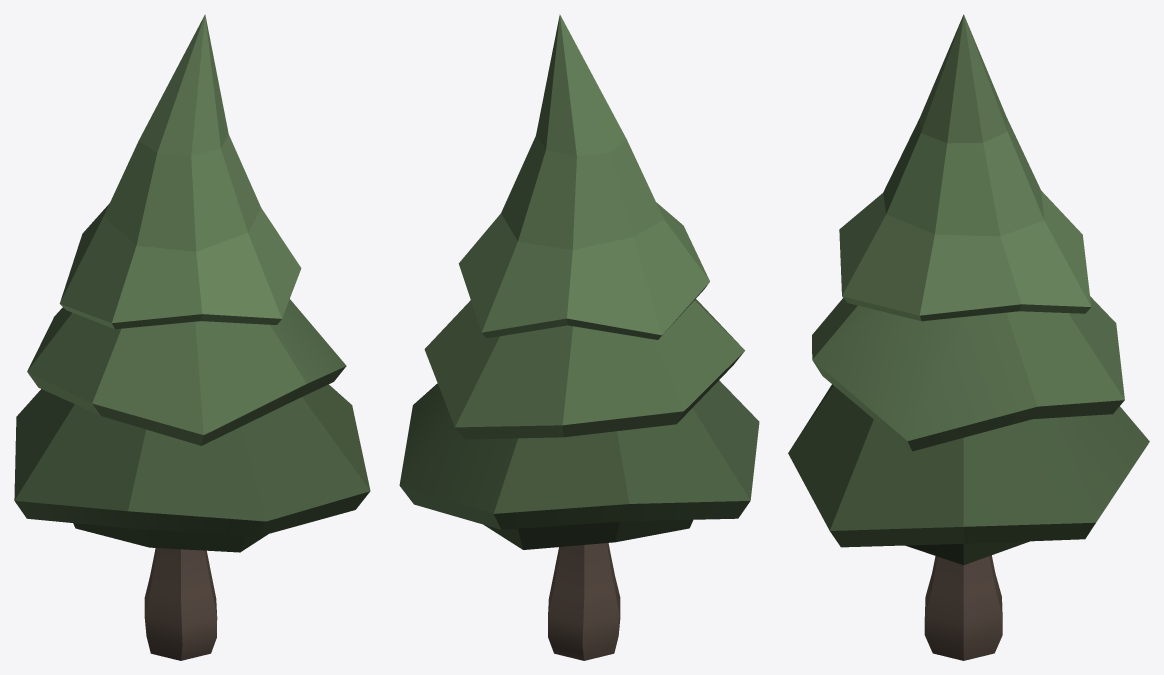
The model's file is Pine1.fbx.
The picture shows the model from 3 angles, left to right: view 1: azimuth 30°, elevation 25°; view 2: azimuth 150°, elevation 25°; view 3: azimuth 270°, elevation 25°; orthographic projection. The views are drawn at different scales.
Visible parts, largest first — view 1: pCylinder6; view 2: pCylinder6; view 3: pCylinder6.
Boxes of the visible parts, x1,y1,x2,y2 form: pCylinder6: [14, 14, 370, 660]; pCylinder6: [399, 14, 759, 660]; pCylinder6: [788, 14, 1149, 660].
Bounding box in the file's own units: 1.5 × 1.36 × 2.66.
